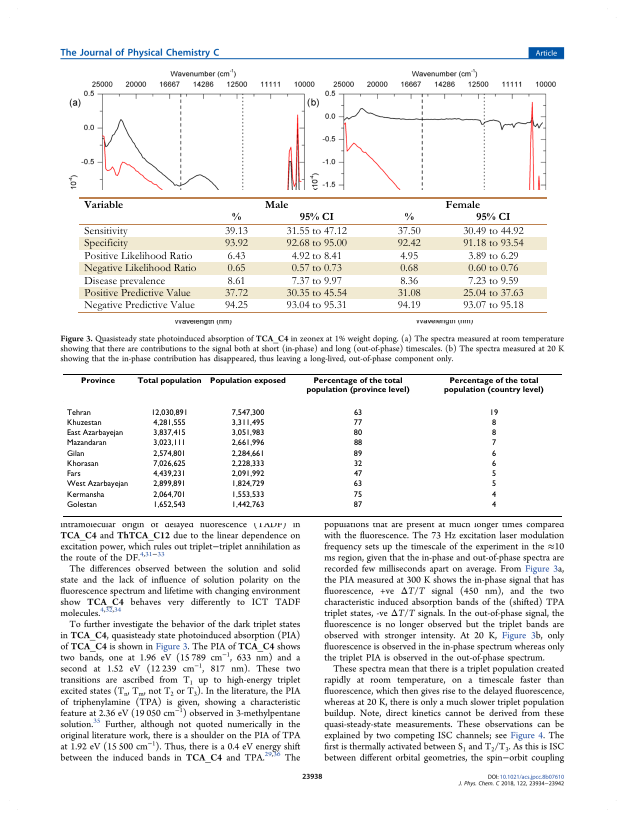borderless: (62, 372, 562, 516), (79, 195, 547, 312)
cell: (305, 377, 410, 395), (443, 377, 544, 395), (83, 263, 197, 275), (83, 300, 195, 312), (83, 250, 193, 262), (83, 288, 191, 300), (83, 275, 165, 287), (285, 226, 347, 238), (462, 226, 524, 238), (285, 238, 347, 250), (462, 238, 524, 250), (285, 288, 347, 300), (462, 288, 524, 300), (285, 300, 347, 312), (462, 300, 524, 312), (209, 377, 286, 386), (290, 250, 342, 262), (467, 250, 519, 262), (290, 263, 342, 275), (467, 263, 519, 275), (290, 275, 342, 287), (467, 275, 519, 287), (136, 377, 202, 386), (65, 480, 129, 489), (83, 226, 128, 238), (83, 238, 128, 250), (65, 429, 124, 438), (83, 199, 124, 209), (65, 490, 105, 500), (150, 408, 188, 418), (65, 439, 107, 448), (65, 418, 102, 428), (444, 199, 480, 209), (230, 408, 265, 418), (230, 418, 265, 428), (230, 449, 265, 459), (230, 459, 265, 469), (230, 490, 265, 500), (230, 500, 265, 510), (152, 418, 186, 428), (152, 449, 186, 459), (65, 459, 99, 469), (152, 459, 186, 469), (152, 490, 186, 500), (152, 500, 186, 510), (298, 212, 334, 221), (475, 212, 511, 221), (65, 500, 97, 510), (80, 377, 115, 386), (230, 429, 265, 438), (230, 439, 265, 448), (230, 470, 265, 479), (230, 480, 265, 489), (152, 429, 186, 438), (152, 439, 186, 448), (152, 470, 186, 479), (152, 480, 186, 489), (223, 226, 248, 238), (396, 226, 421, 238), (223, 238, 248, 250), (396, 238, 421, 250), (223, 288, 248, 300), (396, 288, 421, 300), (223, 300, 248, 312), (396, 300, 421, 312), (65, 408, 91, 418), (263, 199, 289, 209), (226, 250, 246, 262), (226, 263, 246, 275), (226, 275, 246, 287), (399, 250, 418, 262), (399, 263, 418, 275), (399, 275, 418, 287), (65, 449, 85, 459), (65, 470, 81, 479), (352, 408, 363, 418), (488, 408, 499, 418), (352, 418, 363, 428), (352, 449, 363, 459), (352, 459, 363, 469), (352, 490, 363, 500), (352, 500, 363, 510), (352, 429, 363, 438), (352, 439, 363, 448), (352, 470, 363, 479), (352, 480, 363, 489), (230, 212, 241, 221), (403, 212, 414, 221), (490, 459, 497, 469), (490, 500, 497, 510), (490, 429, 497, 438), (490, 439, 497, 448), (490, 470, 497, 479), (490, 480, 497, 489), (490, 418, 496, 428), (490, 449, 496, 459), (490, 490, 496, 500)
